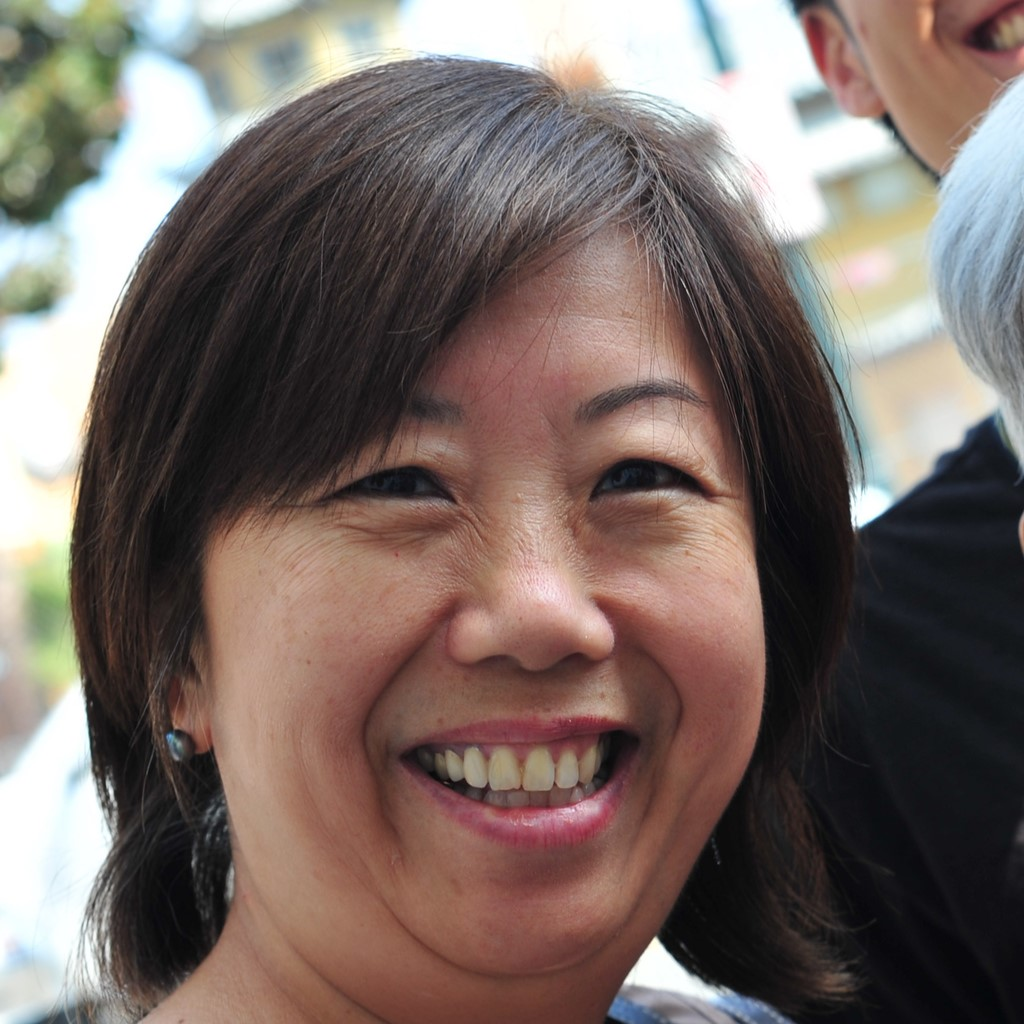sin_mascara: (189, 167, 776, 962)
